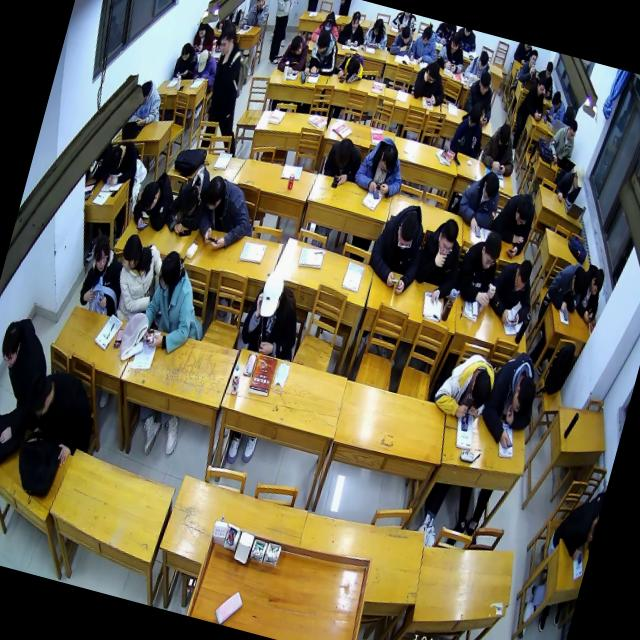bow: (474, 344, 548, 452), (430, 344, 500, 426), (162, 158, 216, 242), (126, 163, 182, 240), (540, 255, 590, 318), (319, 130, 367, 190), (100, 134, 143, 192), (302, 24, 343, 82), (409, 56, 454, 108), (516, 73, 552, 123), (276, 31, 314, 78), (332, 46, 368, 88), (310, 7, 344, 49), (461, 46, 495, 86), (387, 20, 417, 60)
down: (22, 370, 59, 423), (255, 268, 288, 320), (506, 372, 540, 421), (475, 228, 506, 276), (432, 214, 462, 261), (464, 368, 494, 413), (392, 210, 420, 253), (136, 177, 164, 214), (331, 134, 357, 172), (509, 258, 535, 296), (512, 190, 536, 230), (178, 182, 203, 219), (376, 142, 401, 178), (216, 20, 238, 59), (478, 170, 503, 204), (568, 265, 590, 299), (587, 266, 607, 300), (104, 144, 125, 176), (494, 122, 514, 154), (464, 102, 484, 132), (136, 78, 154, 108), (475, 70, 493, 98), (569, 164, 587, 192), (194, 48, 212, 74), (343, 54, 362, 78), (418, 24, 434, 48), (475, 49, 490, 73), (548, 89, 564, 111), (564, 119, 579, 142), (371, 16, 386, 38), (348, 9, 362, 32), (448, 31, 462, 54), (322, 10, 336, 32), (534, 76, 548, 98), (178, 41, 192, 62), (542, 59, 555, 81), (194, 20, 208, 40)
lookup: (0, 316, 26, 372), (526, 48, 540, 68), (253, 0, 267, 10)
sit: (15, 361, 109, 471), (190, 20, 266, 156), (134, 244, 209, 360), (0, 310, 60, 454), (361, 193, 436, 300), (235, 264, 313, 362), (103, 228, 172, 329), (188, 170, 260, 258), (408, 212, 472, 310), (74, 230, 136, 319), (449, 223, 510, 311), (482, 252, 543, 332), (351, 130, 413, 204), (483, 186, 540, 262), (546, 489, 604, 563), (452, 164, 507, 238), (476, 118, 524, 180), (446, 97, 492, 161), (258, 0, 301, 68), (460, 67, 503, 128), (570, 261, 610, 326), (128, 76, 168, 132), (544, 114, 581, 168), (433, 28, 472, 76), (406, 20, 444, 69), (550, 160, 588, 208), (335, 5, 371, 50), (170, 40, 202, 86), (189, 47, 221, 91), (238, 0, 274, 34), (360, 14, 392, 52), (532, 58, 560, 100), (515, 46, 543, 86), (543, 88, 571, 126), (190, 18, 218, 55)
